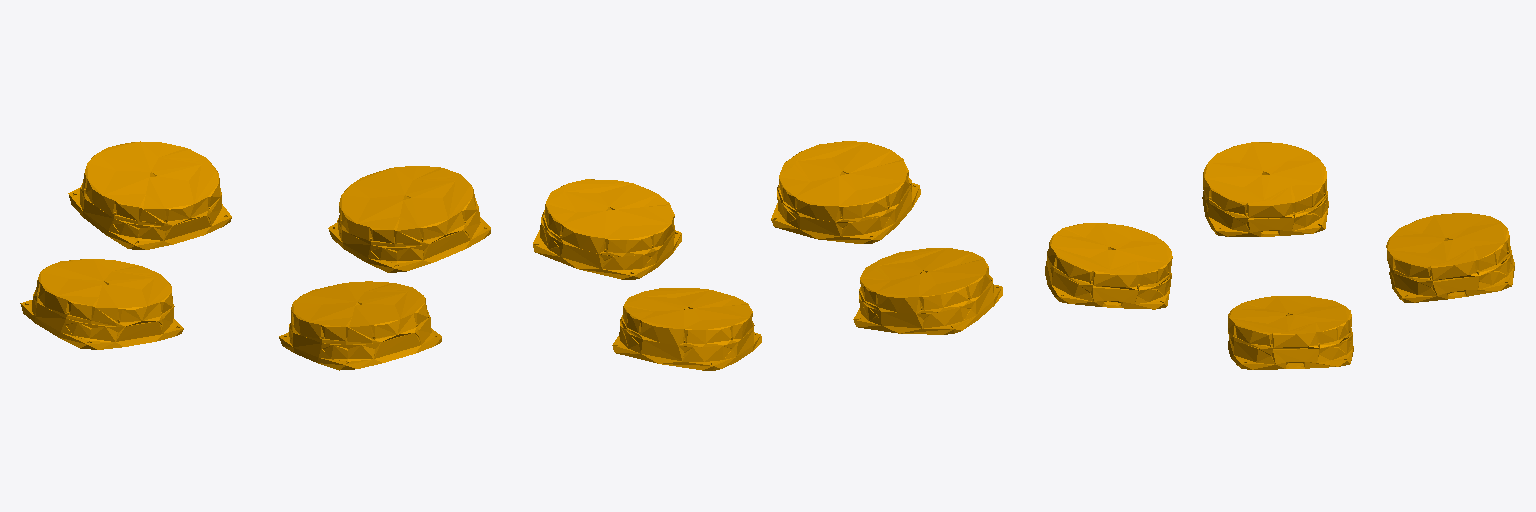
The robot description file, URDF, robot "unnamed":
<robot name="unnamed" version="1.0">
  <link name="ee_board">
    <visual name="rw1">
      <origin rpy="0.00000 0.00000 0.00000" xyz="0.00000 0.00000 0.00000"/>
      <geometry>
        <mesh filename="../meshes/stl/ee_base_link.008.stl" scale="1.00000 1.00000 1.00000"/>
      </geometry>
    </visual>
    <visual name="rw2">
      <origin rpy="0.00000 0.00000 0.00000" xyz="0.00000 0.00000 0.00000"/>
      <geometry>
        <mesh filename="../meshes/stl/ee_base_link.007.stl" scale="1.00000 1.00000 1.00000"/>
      </geometry>
    </visual>
    <visual name="rw3">
      <origin rpy="0.00000 0.00000 0.00000" xyz="0.00000 0.00000 0.00000"/>
      <geometry>
        <mesh filename="../meshes/stl/ee_base_link.006.stl" scale="1.00000 1.00000 1.00000"/>
      </geometry>
    </visual>
    <visual name="rw4">
      <origin rpy="0.00000 0.00000 0.00000" xyz="0.00000 0.00000 0.00000"/>
      <geometry>
        <mesh filename="../meshes/stl/ee_base_link.005.stl" scale="1.00000 1.00000 1.00000"/>
      </geometry>
    </visual>
  </link>
</robot>

--- What the picture shows (computed from the rendered views, not written in the file) ---
Views: 3 orthographic renders of the robot side by side, from view 1: azimuth 30°, elevation 25°; view 2: azimuth 150°, elevation 25°; view 3: azimuth 270°, elevation 25°.
Robot: unnamed — 1 links, 0 joints (none); root link ee_board; default pose: all joints at 0.
Links seen in each view (by area): view 1: ee_board; view 2: ee_board; view 3: ee_board.
Link boxes in pixels (x1=…): ee_board: x1=20, y1=141, x2=490, y2=370; ee_board: x1=533, y1=141, x2=1002, y2=370; ee_board: x1=1045, y1=142, x2=1514, y2=369.
Bounding box of the posed robot: 0.4126 × 0.4184 × 0.0458 m (x, y, z).
Meshes: 4 distinct files referenced, 4 mesh visuals loaded (4 binary STL).
